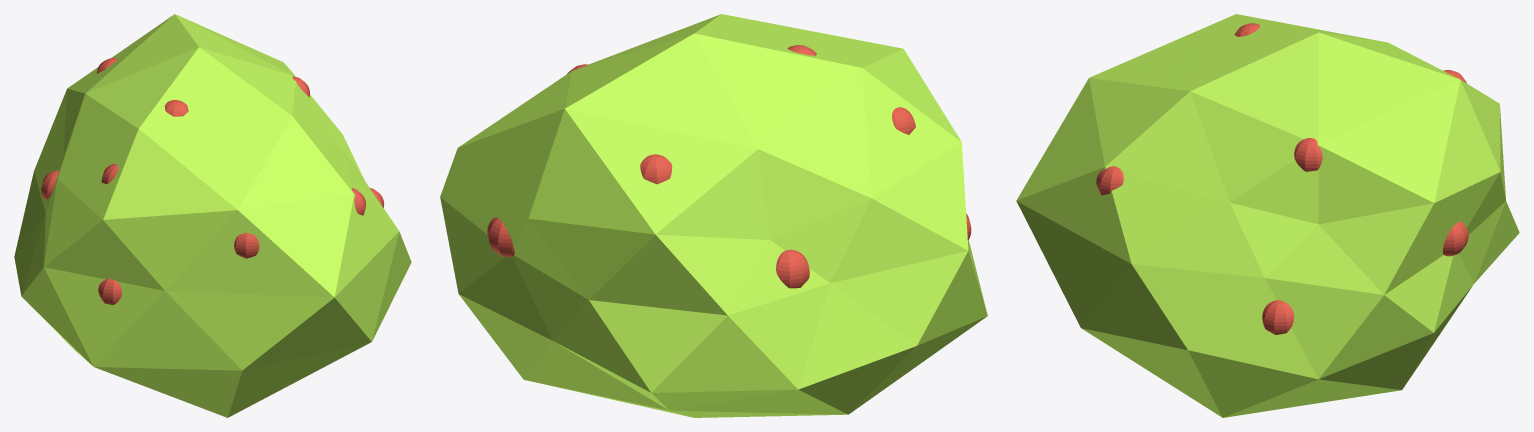
File: bushRed.fbx
3 views of the same model, side by side, from view 1: azimuth 30°, elevation 25°; view 2: azimuth 150°, elevation 25°; view 3: azimuth 270°, elevation 25° (orthographic). The views are drawn at different scales.
Parts seen in each view (by area): view 1: Icosphere.002, Sphere.006, Sphere.008; view 2: Icosphere.002, Sphere, Sphere.003, Sphere.002; view 3: Icosphere.002, Sphere.009, Sphere.004, Sphere.002, Sphere.005.
Boxes of the visible parts, left/top/right/bottom form: Icosphere.002: left=14, top=14, right=411, bottom=417; Sphere.006: left=234, top=232, right=259, bottom=258; Sphere.008: left=98, top=278, right=122, bottom=304; Icosphere.002: left=440, top=14, right=987, bottom=417; Sphere: left=776, top=249, right=809, bottom=288; Sphere.003: left=640, top=154, right=672, bottom=184; Sphere.002: left=487, top=217, right=514, bottom=256; Icosphere.002: left=1016, top=14, right=1519, bottom=417; Sphere.009: left=1262, top=300, right=1294, bottom=334; Sphere.004: left=1294, top=138, right=1322, bottom=171; Sphere.002: left=1443, top=221, right=1468, bottom=256; Sphere.005: left=1096, top=166, right=1123, bottom=195.
Size of the model in its own units: 288 by 228 by 304.
